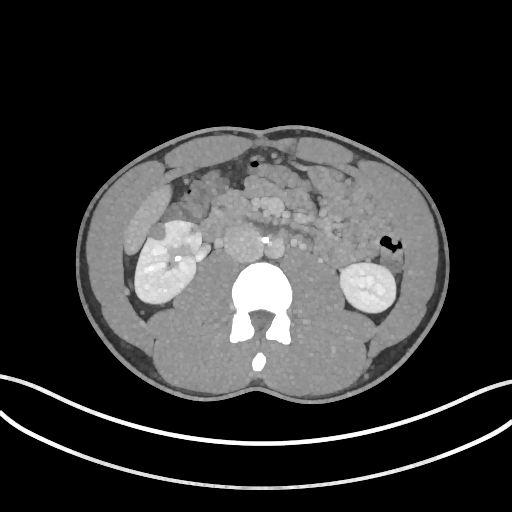Lesion: (145, 220, 167, 242)
